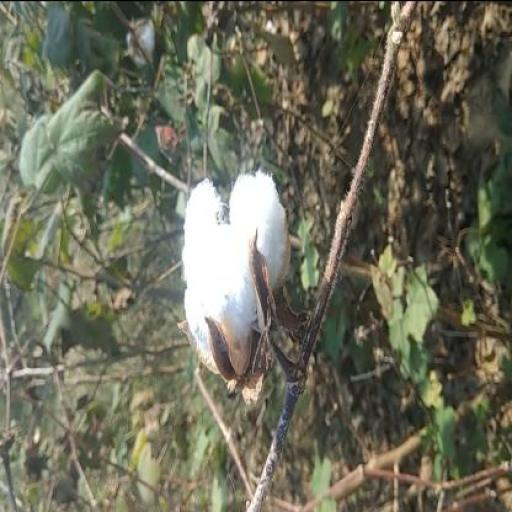cotton_ready: (164, 143, 337, 434)
